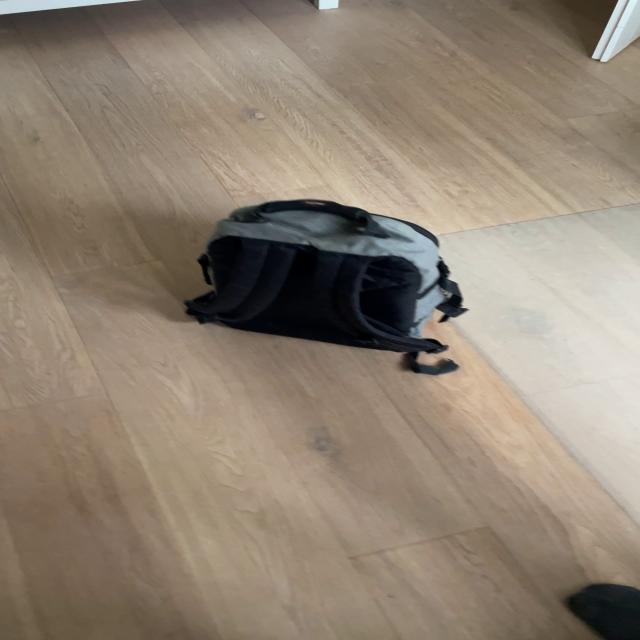backpack: (170, 192, 482, 362)
